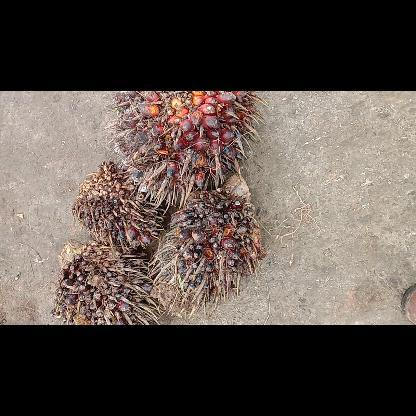TBS abnormal: (155, 174, 264, 314), (51, 242, 160, 324), (70, 161, 162, 253)
TBS masak: (112, 91, 256, 200)
